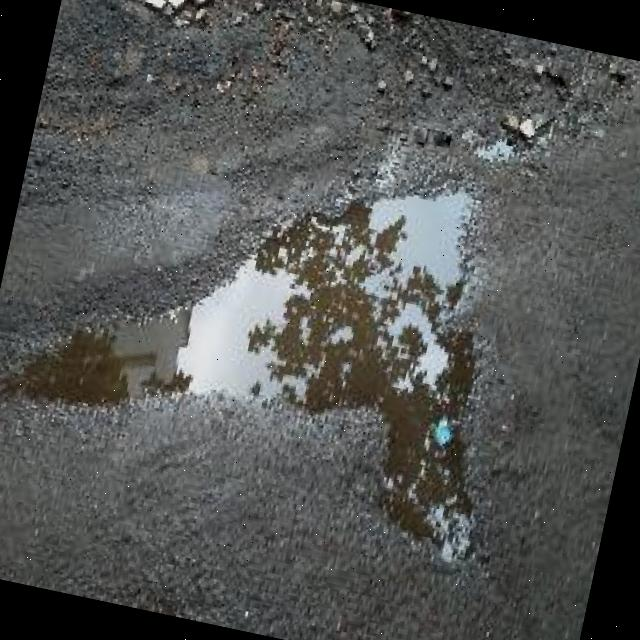stagnation: (0, 79, 562, 601)
